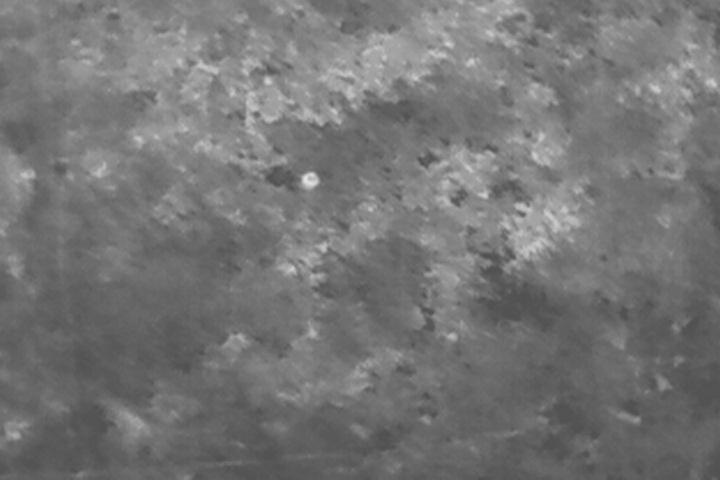landmine: (301, 168, 323, 191)
